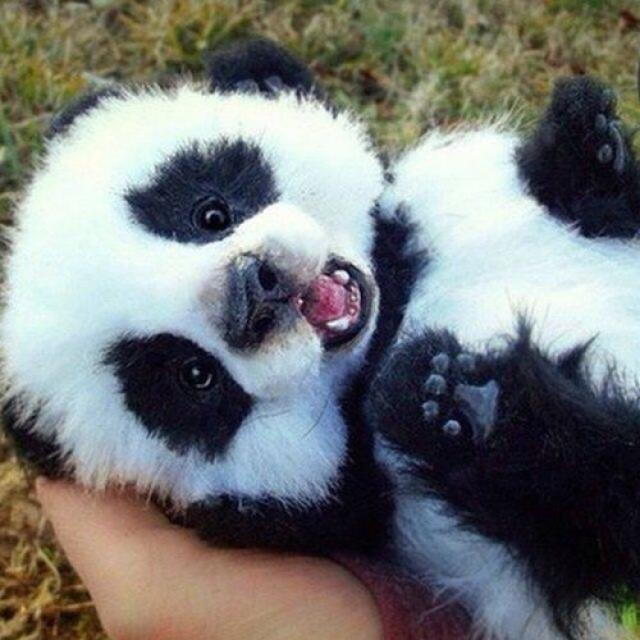panda: (0, 33, 639, 639)
